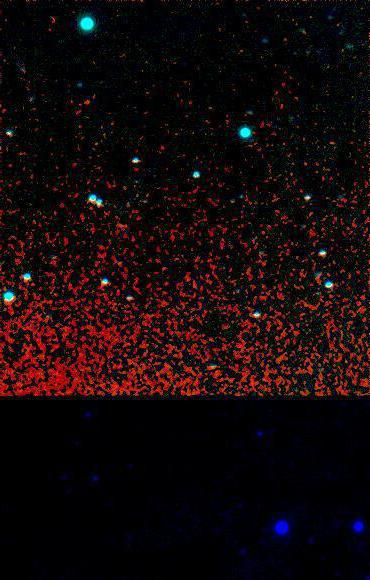star: (73, 86, 103, 116)
